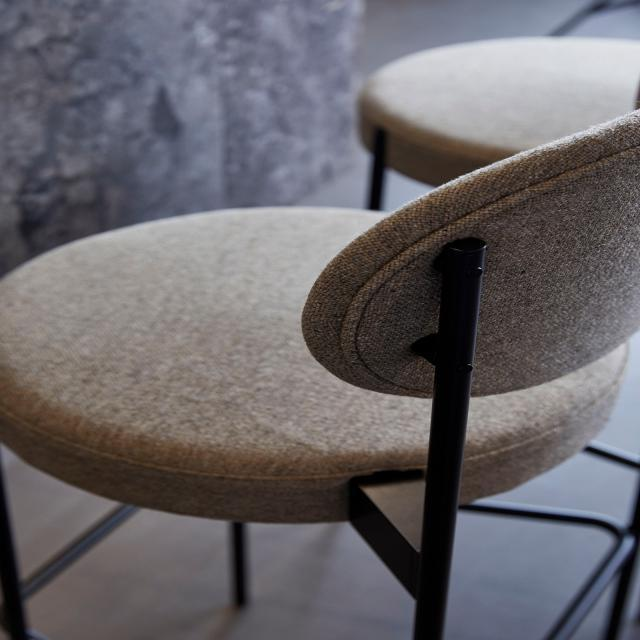chair: (0, 93, 640, 640), (0, 98, 640, 454), (333, 0, 640, 203)
